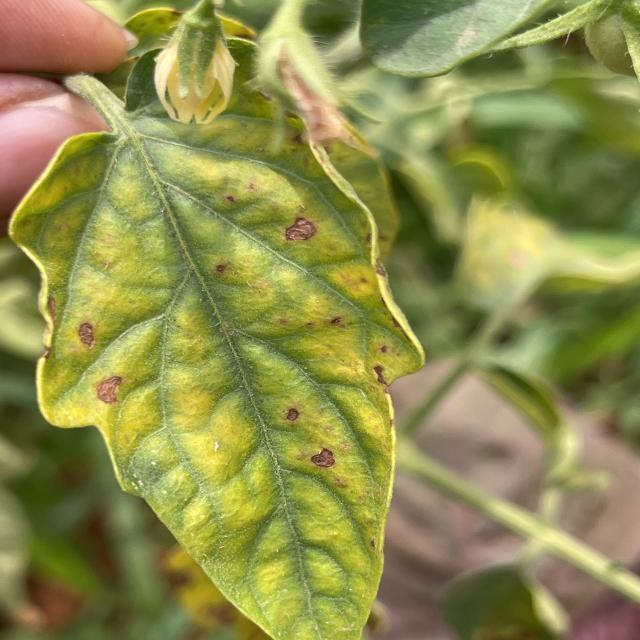tomato_early blight: (9, 38, 423, 640)
